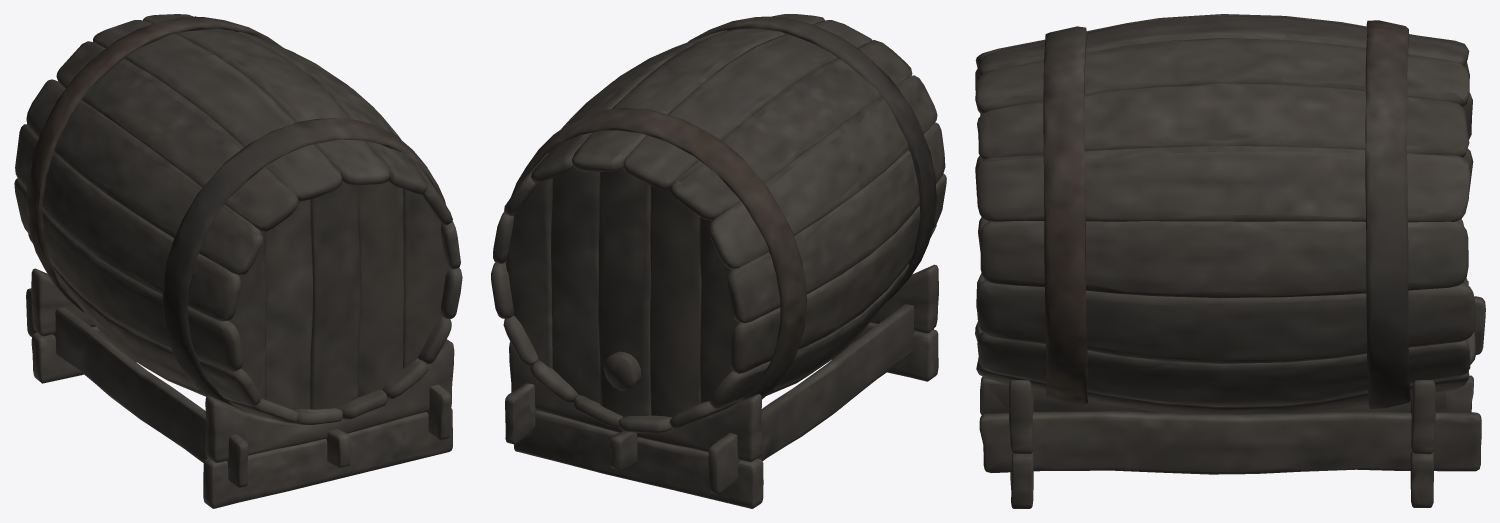
File: Barrel_02 1.fbx
3 views of the same model, side by side, from view 1: azimuth 30°, elevation 25°; view 2: azimuth 150°, elevation 25°; view 3: azimuth 270°, elevation 25° (orthographic). The views are drawn at different scales.
Parts seen in each view (by area): view 1: Barrel_02, BarrelStand, Barrel_02_Metall; view 2: Barrel_02, BarrelStand, Barrel_02_Metall; view 3: Barrel_02, BarrelStand, Barrel_02_Metall.
Part boxes in pixels (x1=…): Barrel_02: x1=14, y1=14, x2=462, y2=424; BarrelStand: x1=26, y1=268, x2=454, y2=508; Barrel_02_Metall: x1=26, y1=17, x2=445, y2=409; Barrel_02: x1=491, y1=14, x2=946, y2=433; BarrelStand: x1=505, y1=264, x2=938, y2=508; Barrel_02_Metall: x1=511, y1=16, x2=936, y2=400; Barrel_02: x1=975, y1=14, x2=1476, y2=414; BarrelStand: x1=979, y1=296, x2=1485, y2=508; Barrel_02_Metall: x1=1043, y1=20, x2=1410, y2=409.
Size of what is drawn, in the model's own units: 103 by 116 by 132.
